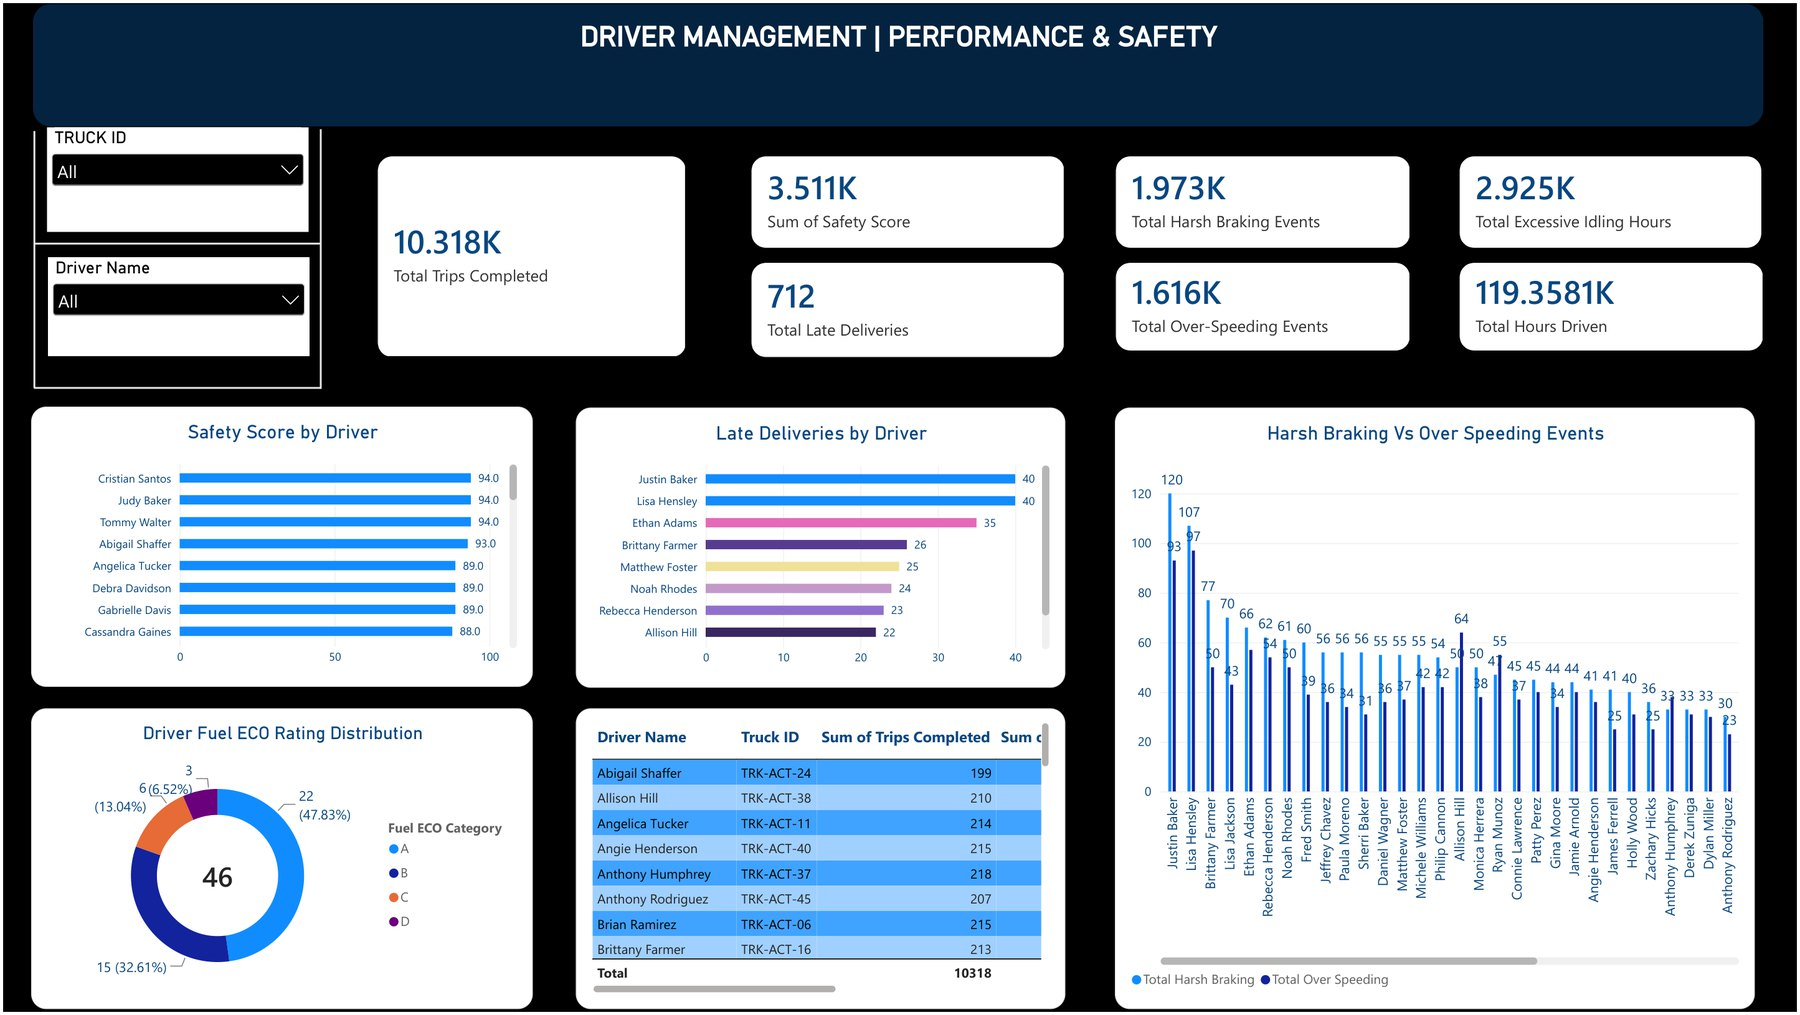

What the dashboard file says about the page in this screenshot:
{"tool":"powerbi","page":{"name":"Drivers","canvas":[1920,1080],"ordinal":3},"visuals":[{"type":"textbox","box":[0,0,1920,96],"z":0},{"type":"slicer","fields":{"Values":["DimDriver.Driver Name"]},"box":[1576,12,320,72],"z":101},{"type":"card","fields":{"Values":["_Measures_.Drivers"]},"box":[24,112,298.7,112],"z":1000},{"type":"card","fields":{"Values":["_Measures_.Total Trips"]},"box":[338.7,112,298.7,112],"z":1001},{"type":"card","fields":{"Values":["_Measures_.Average Safety Score"]},"box":[653.3,112,298.7,112],"z":1002},{"type":"card","fields":{"Values":["_Measures_.Harsh Braking per 100 Trips"]},"box":[968,112,298.7,112],"z":1003},{"type":"card","fields":{"Values":["_Measures_.Over-Speeding per 100 Trips"]},"box":[1282.7,112,298.7,112],"z":1004},{"type":"card","fields":{"Values":["_Measures_.Late Delivery Rate"]},"box":[1597.3,112,298.7,112],"z":1005},{"type":"card","fields":{"Values":["_Measures_.Insight - Driver"]},"box":[24,238,1872,62],"z":1100},{"type":"clusteredBarChart","title":"10 highest harsh-braking rates (per 100 trips)","fields":{"Category":["DimDriver.Driver Name"],"Y":["_Measures_.Harsh Braking per 100 Trips"]},"box":[24,316,920,360],"z":2000},{"type":"clusteredBarChart","title":"10 highest late-delivery rates","fields":{"Category":["DimDriver.Driver Name"],"Y":["_Measures_.Late Delivery Rate"]},"box":[960,316,936,360],"z":2001},{"type":"tableEx","title":"Driver scorecard (lowest safety score first)","fields":{"Values":["DriverPerformance.Driver Name","DriverPerformance.Truck ID","_Measures_.Total Trips","_Measures_.Average Safety Score","_Measures_.Harsh Braking per 100 Trips","_Measures_.Over-Speeding per 100 Trips","_Measures_.Late Delivery Rate","_Measures_.Idling % of Hours Driven","DriverPerformance.Fuel ECO Category"]},"box":[24,692,1250,364],"z":2002},{"type":"clusteredBarChart","title":"10 lowest safety scores","fields":{"Category":["DimDriver.Driver Name"],"Y":["_Measures_.Average Safety Score"]},"box":[1290,692,606,364],"z":2003}]}

Visuals, with their boxes in screenshot pixels (x1, y1, x2, y2), scaled from the page's 1920x1080 canvas onto the 1800x1015 screenshot:
textbox: (0,0,1799,90)
slicer - DimDriver.Driver Name: (1478,11,1778,79)
card - _Measures_.Drivers: (22,105,303,211)
card - _Measures_.Total Trips: (318,105,598,211)
card - _Measures_.Average Safety Score: (612,105,892,211)
card - _Measures_.Harsh Braking per 100 Trips: (908,105,1188,211)
card - _Measures_.Over-Speeding per 100 Trips: (1203,105,1483,211)
card - _Measures_.Late Delivery Rate: (1497,105,1778,211)
card - _Measures_.Insight - Driver: (22,224,1778,282)
"10 highest harsh-braking rates (per 100 trips)" clusteredBarChart: (22,297,885,635)
"10 highest late-delivery rates" clusteredBarChart: (900,297,1778,635)
"Driver scorecard (lowest safety score first)" tableEx: (22,650,1194,992)
"10 lowest safety scores" clusteredBarChart: (1209,650,1778,992)
